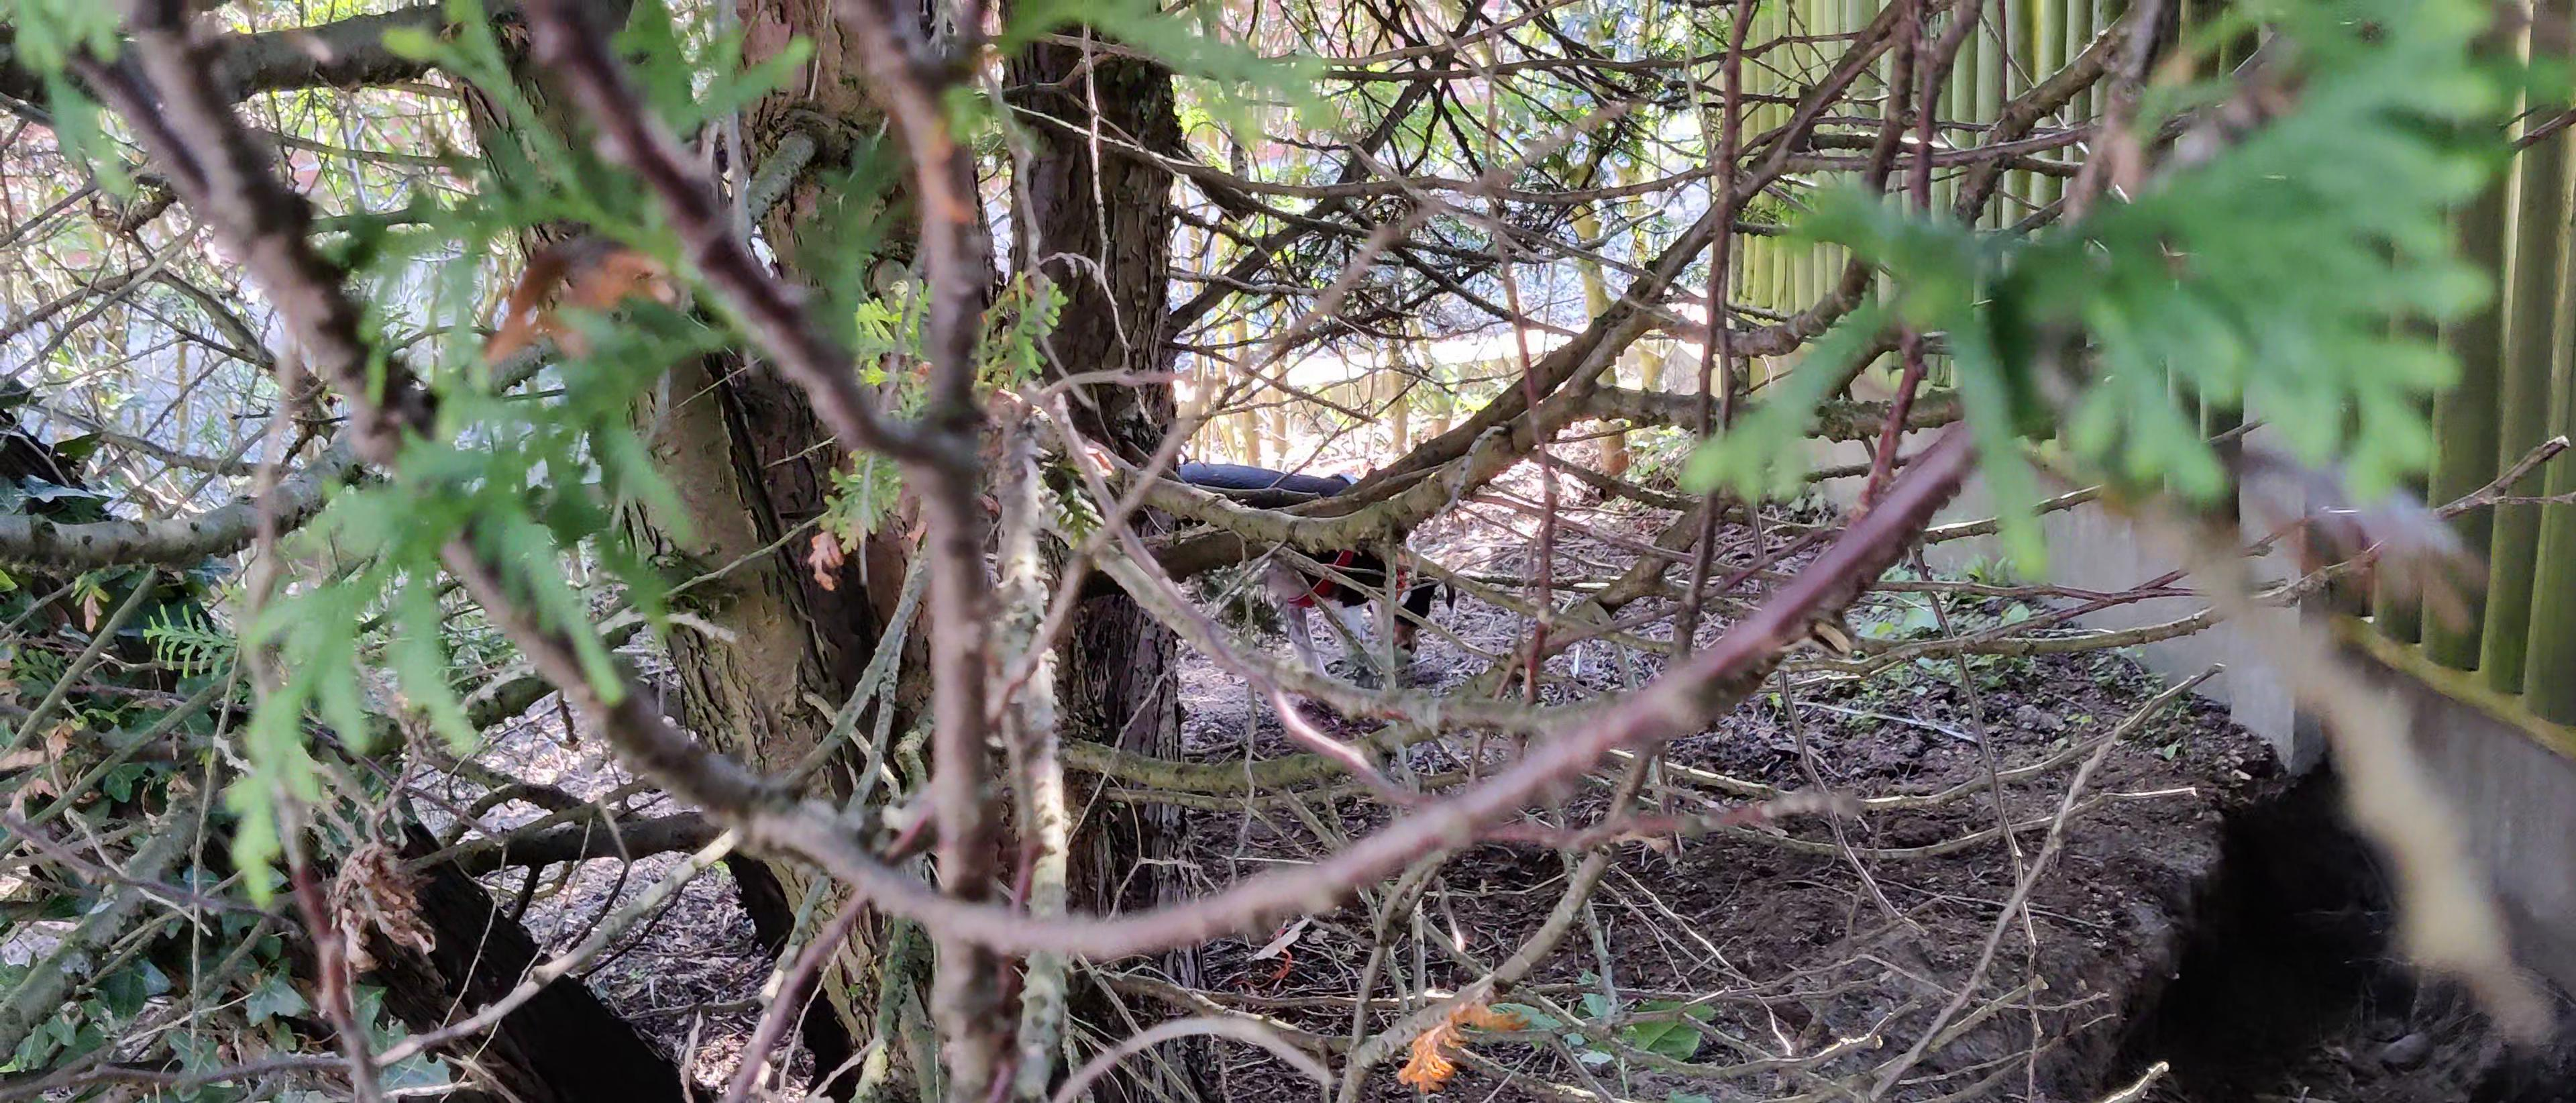Dog: (1142, 455, 1459, 705)
